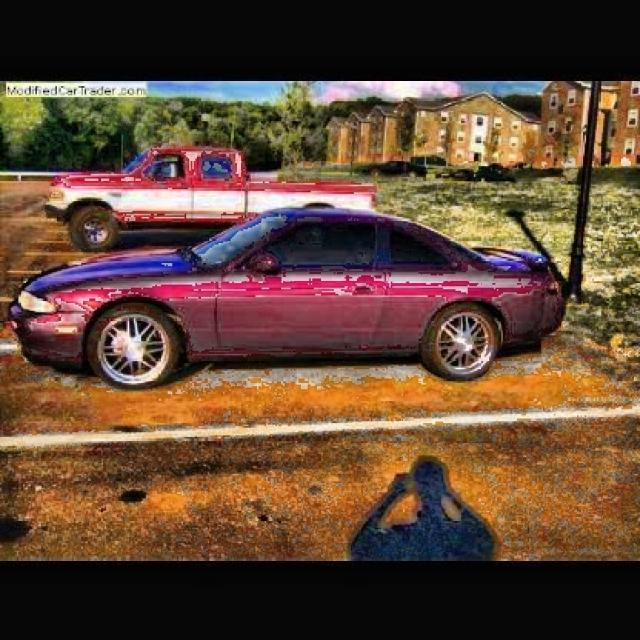maroon: (8, 209, 568, 377)
